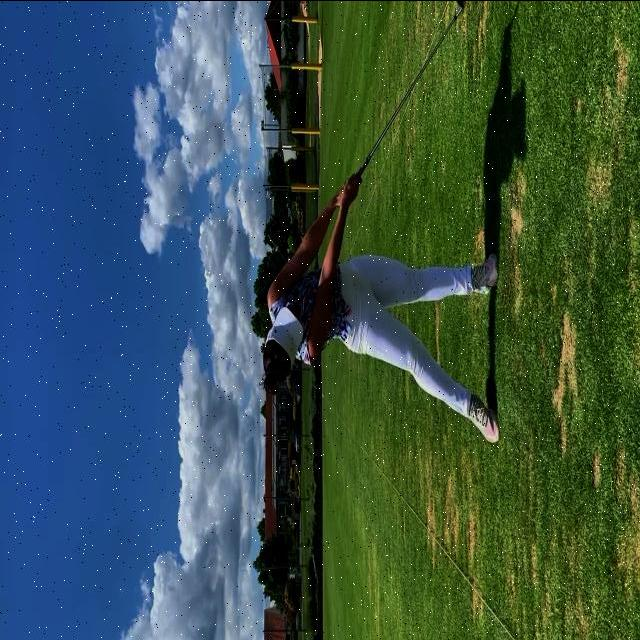golf club-handle: (353, 0, 464, 181)
golf club-head: (456, 0, 464, 10)
